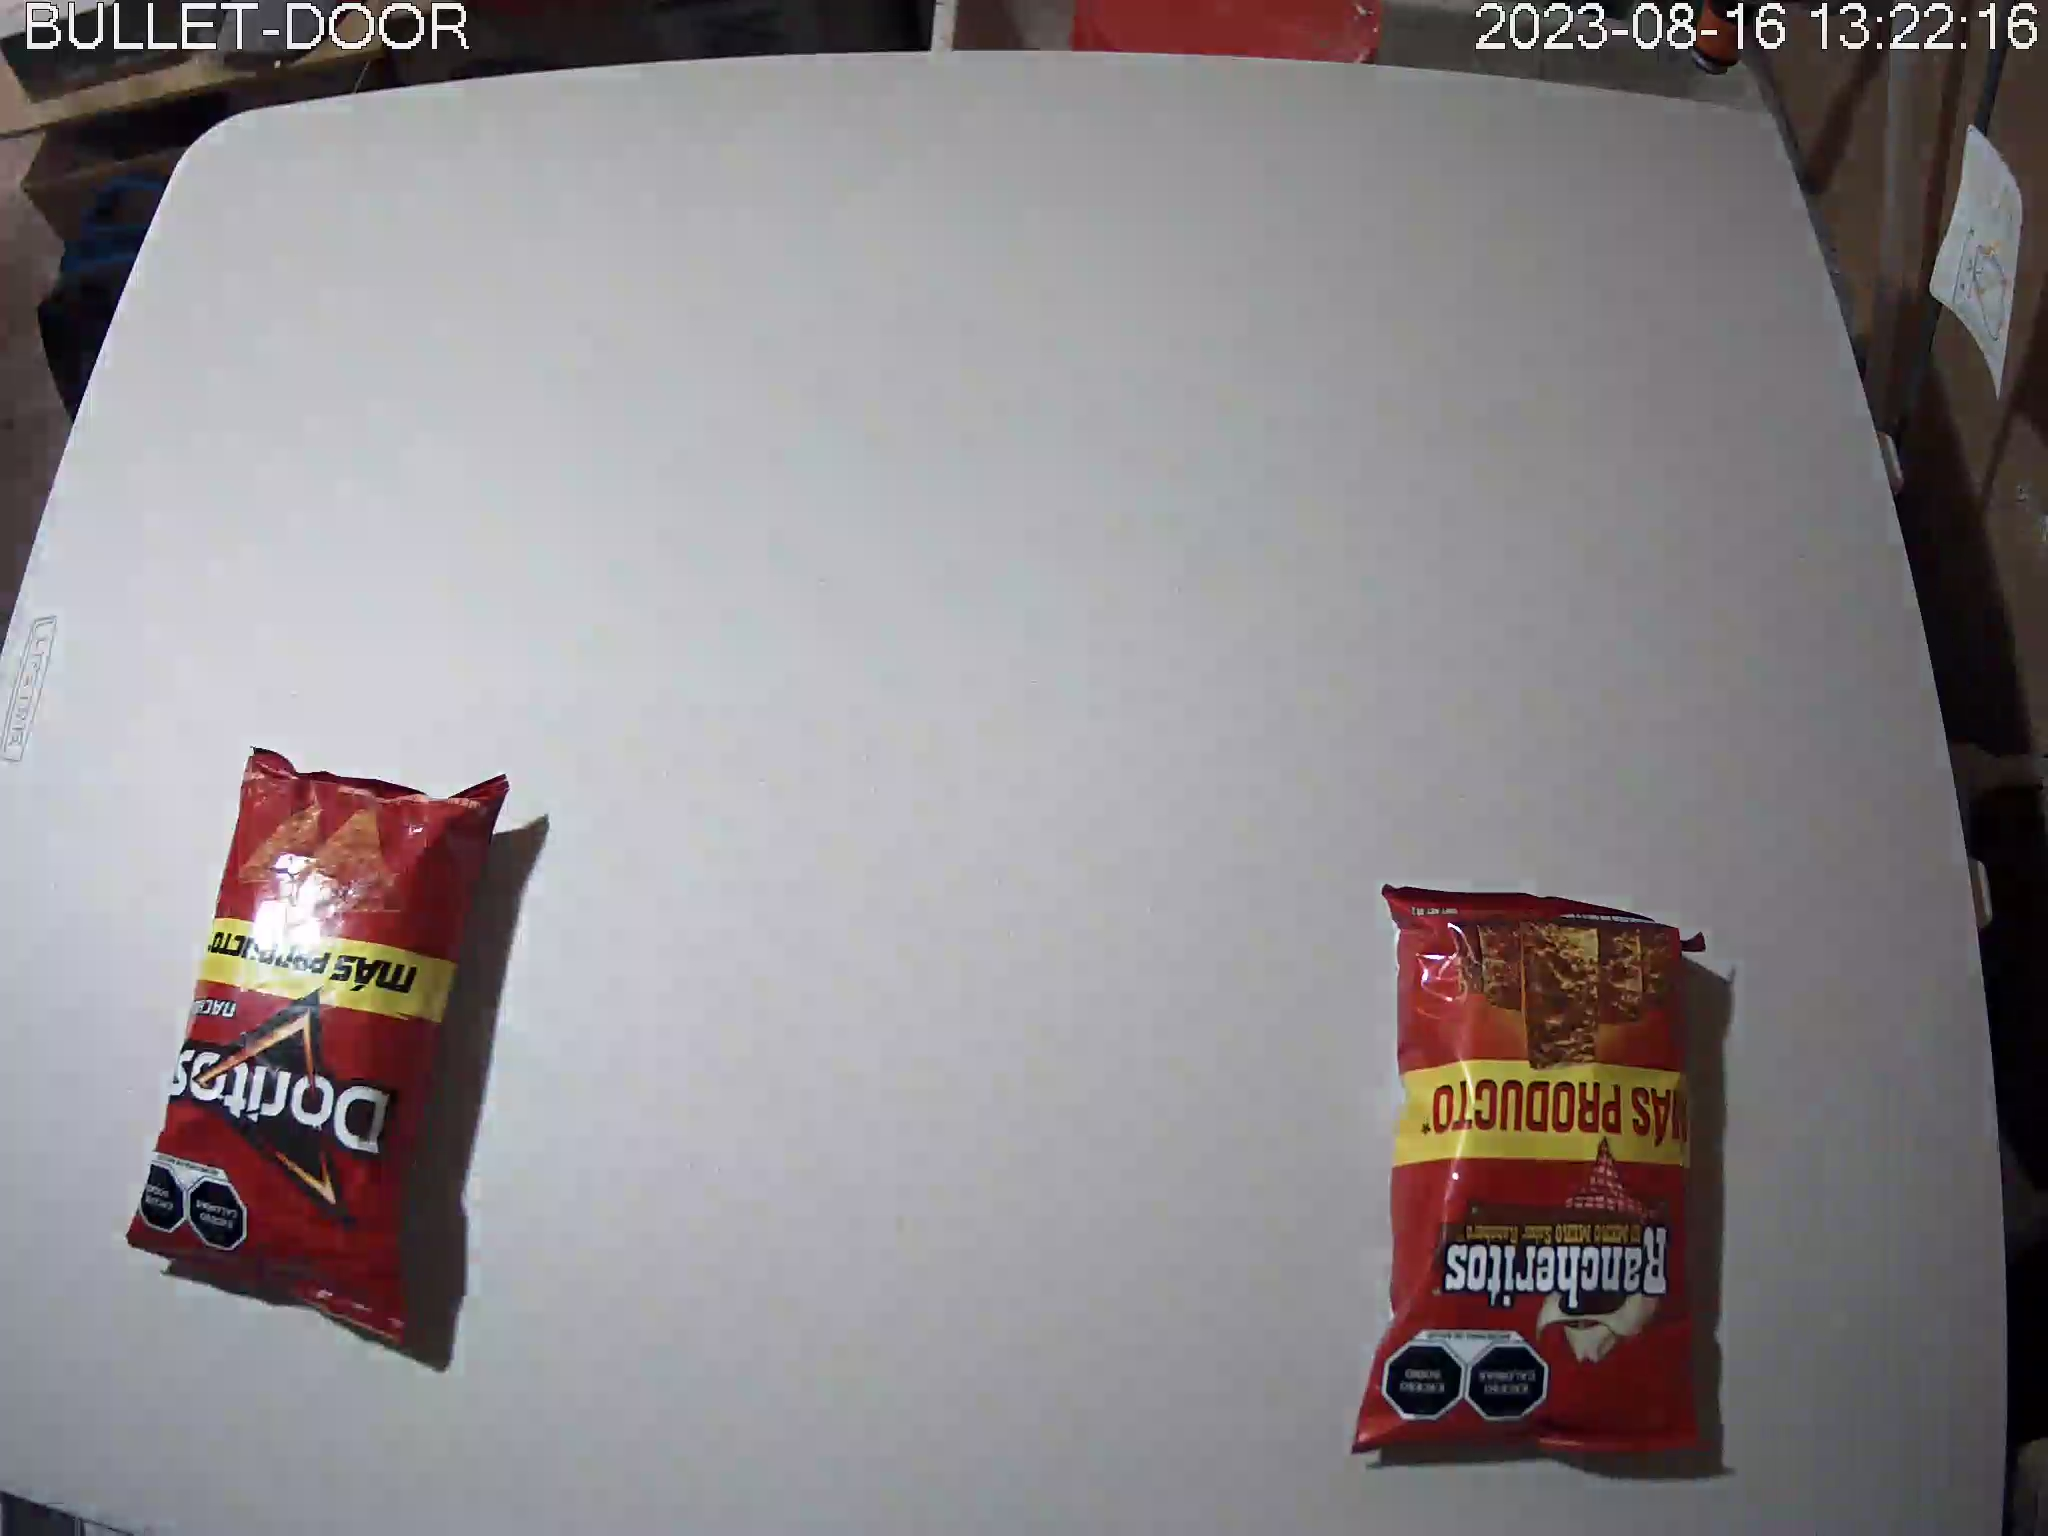DoritosN_61_F: (126, 744, 510, 1359)
Rancheritos_58_F: (1351, 879, 1714, 1457)
